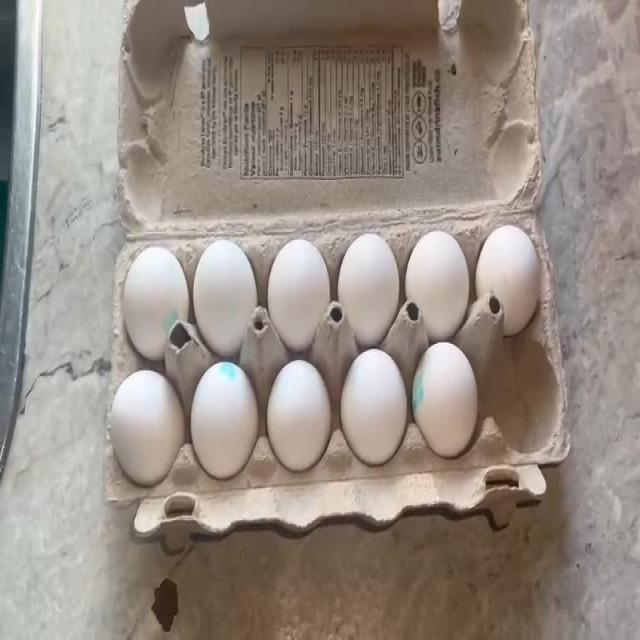Egg: (110, 371, 181, 476), (122, 244, 188, 338), (196, 370, 253, 471), (272, 350, 328, 452), (199, 235, 257, 332), (352, 346, 405, 449), (274, 236, 332, 330), (422, 343, 476, 438), (413, 224, 467, 314), (346, 232, 398, 320), (484, 223, 536, 311)
